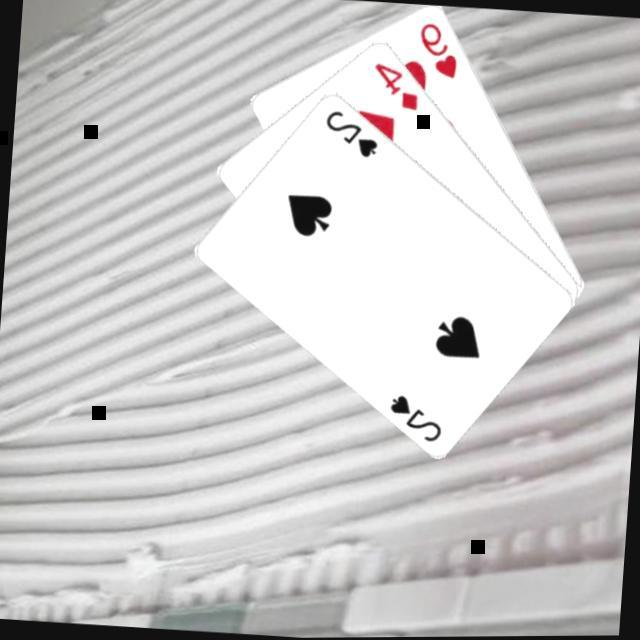2S: (318, 106, 381, 162), (382, 390, 445, 446)
4D: (366, 59, 422, 115)
9H: (411, 18, 461, 83)
